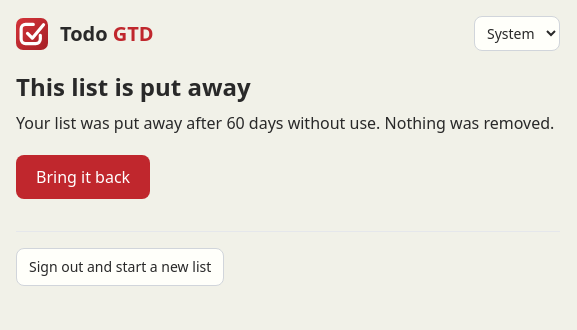
when a request fails › shows the message and lets the person try again
The width and height of the screenshot is (577, 330).
Click the button "Bring it back".
click(83, 177)  # box 16,155 -> 150,199
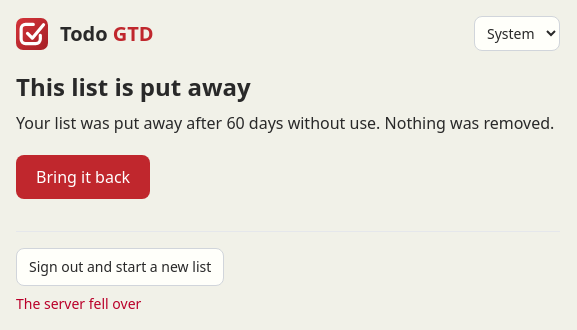
Check: the message "The server fell over" is shown, box 16,294 -> 141,313
